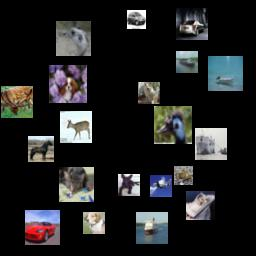airplane: (150, 175, 172, 197)
automobile: (25, 210, 60, 245), (176, 8, 208, 40), (127, 10, 146, 29)
bird: (154, 106, 192, 144), (56, 21, 91, 56)
cat: (59, 167, 94, 202)
deer: (60, 111, 92, 143), (1, 86, 33, 118)
dog: (49, 65, 87, 103), (118, 174, 140, 196), (138, 82, 160, 104), (83, 212, 105, 234)
frog: (174, 166, 193, 185)
ship: (208, 56, 243, 91), (195, 128, 227, 160), (136, 212, 168, 244), (186, 191, 215, 220), (176, 51, 198, 73)
